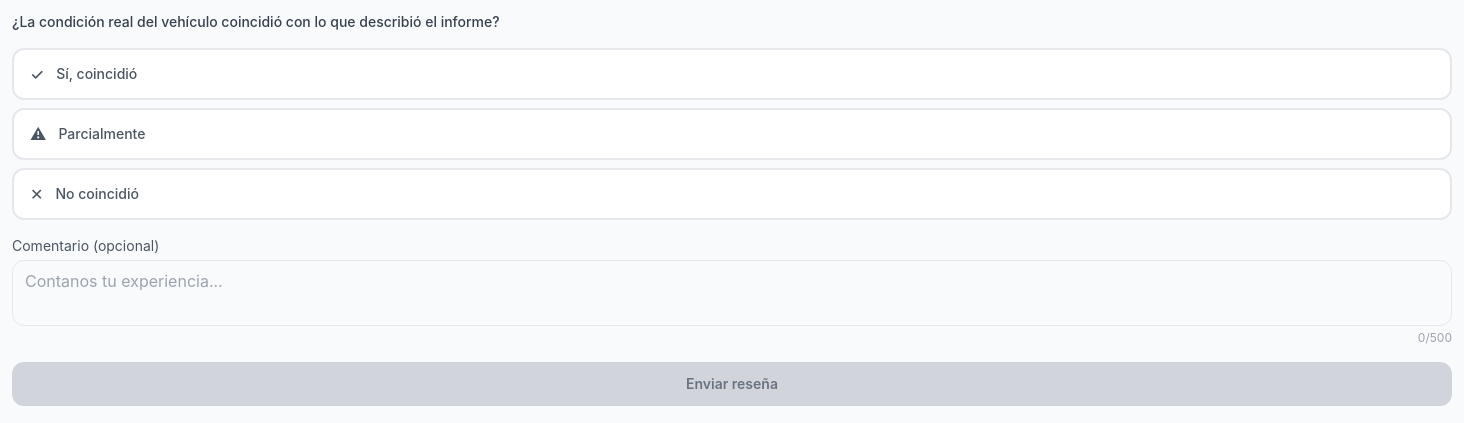
it: ReviewForm › enables submit button when rating is selected
Click the radio button with test id "rating-option-yes": [97, 74] box [12,48,1452,100]
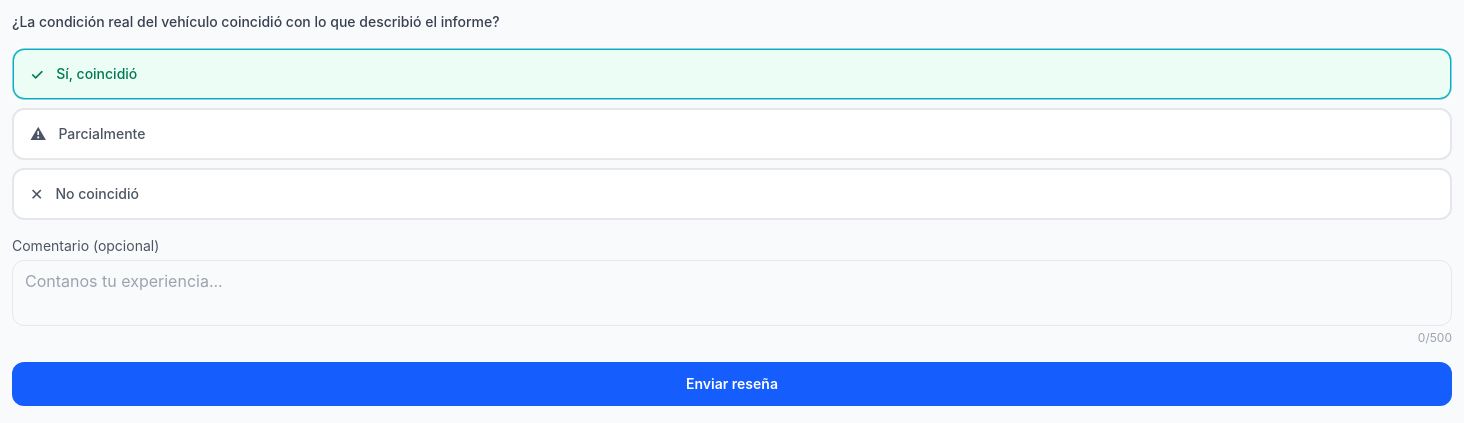
Now the button with test id "review-submit" is enabled, box [12,362,1452,406]
